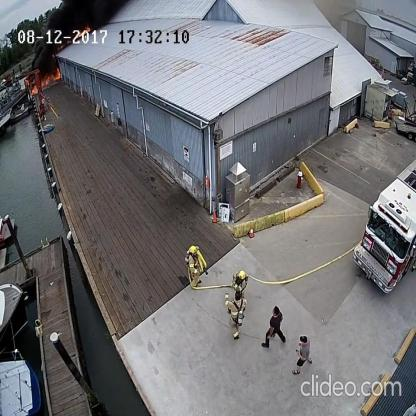fire: (41, 62, 62, 88), (22, 75, 37, 98), (77, 25, 92, 35)
